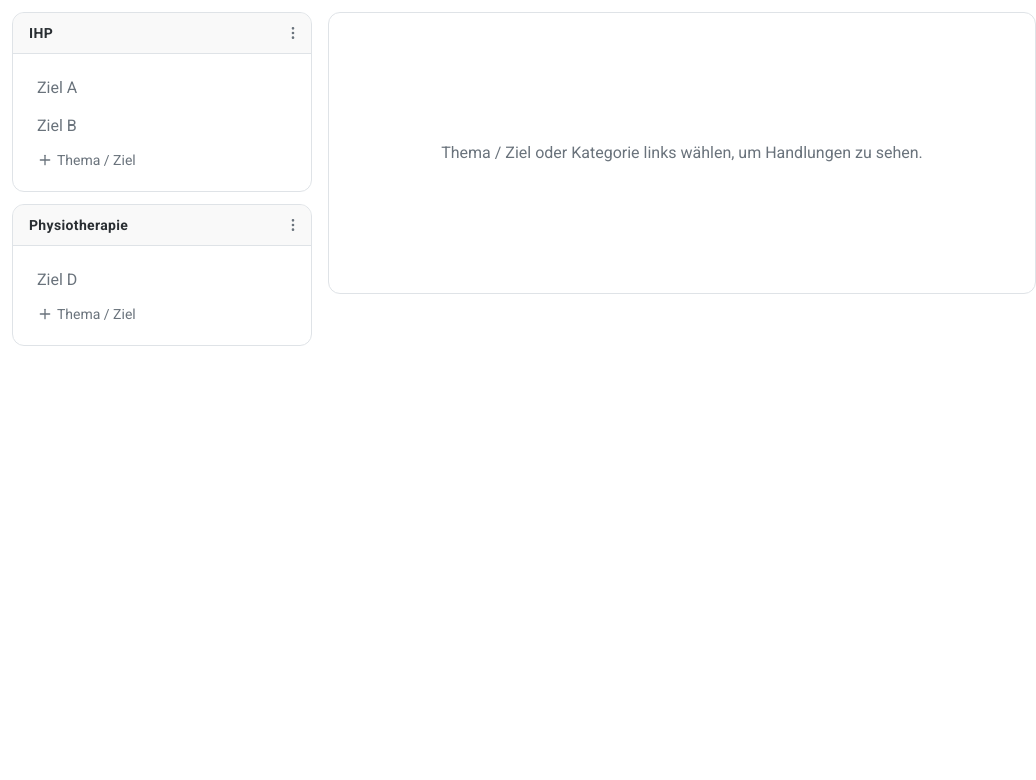
Test: AssessmentOutline planning master-detail › ersetzt die Auswahl beim Wechsel in eine andere Disziplin
Click the button "Ziel A": (57, 88) x1=29 y1=70 x2=295 y2=106
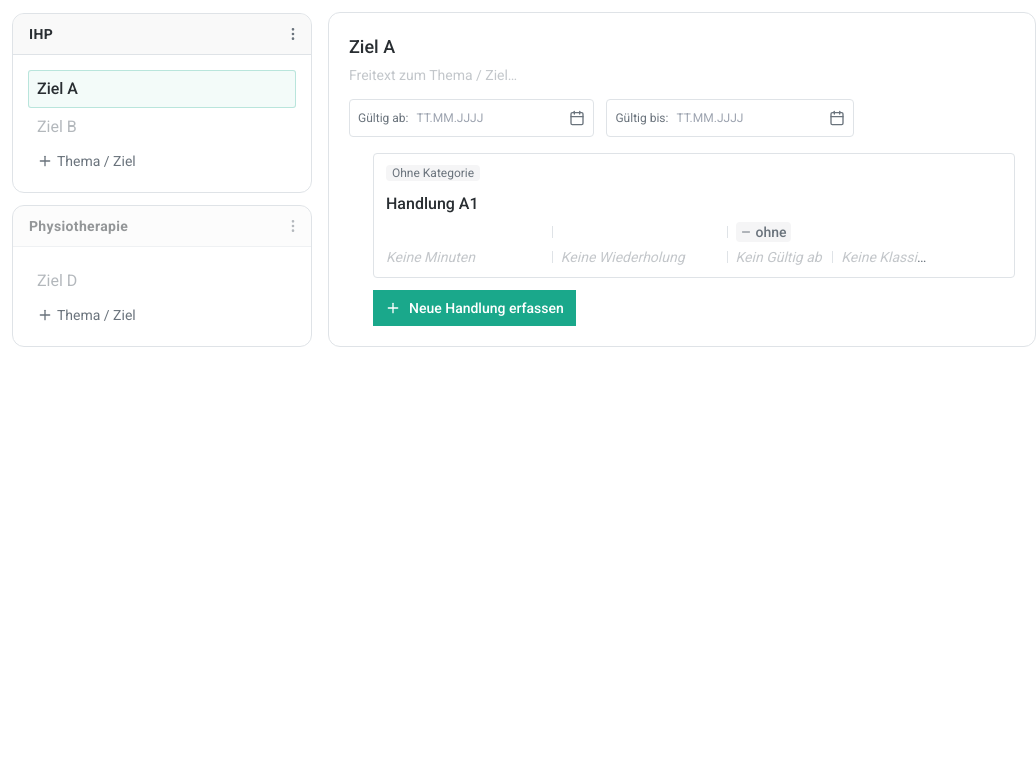
Click the button "Ziel B": (57, 126) x1=29 y1=109 x2=295 y2=145
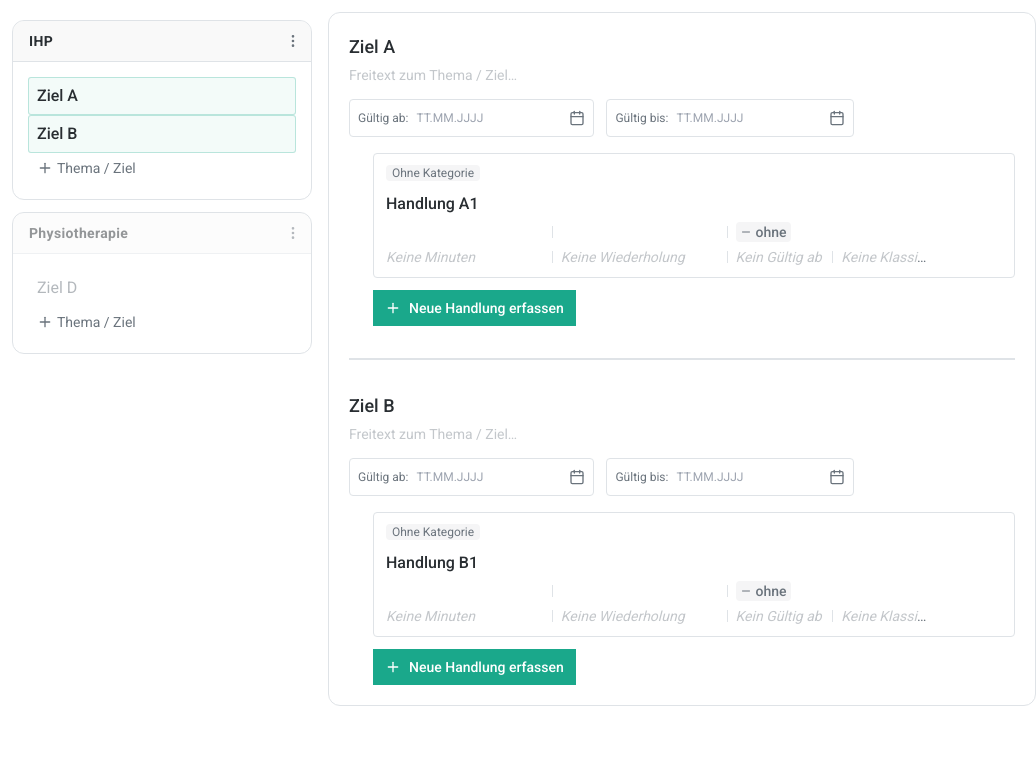
Click the button "Ziel D": (57, 288) x1=29 y1=270 x2=295 y2=306
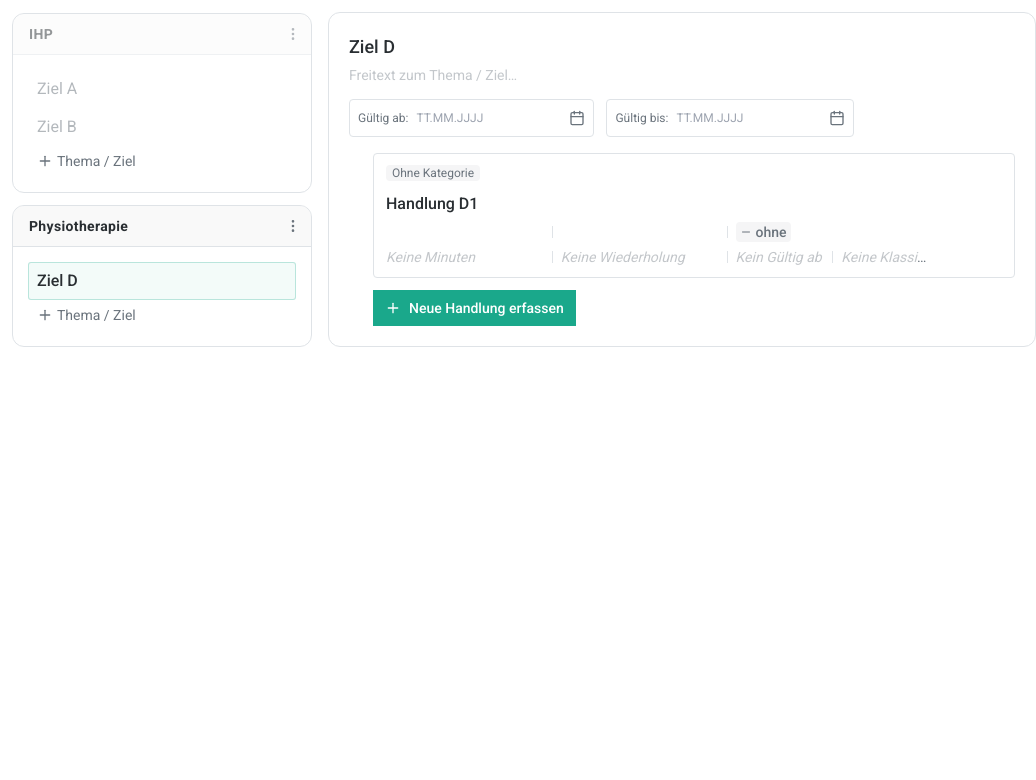
Now the text "Handlung D1" is shown, box x1=386 y1=192 x2=478 y2=216
Now the text "Handlung A1" is gone
Now the text "Handlung B1" is gone
